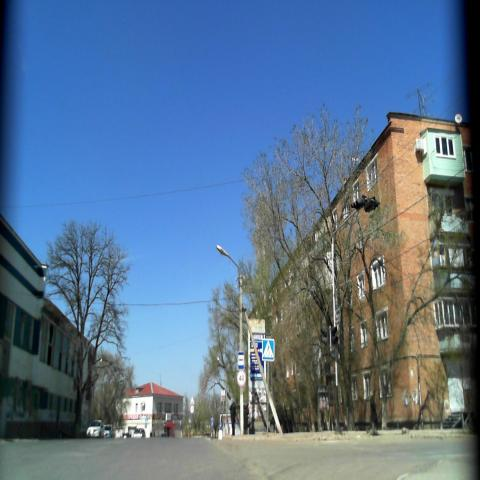3_24: (236, 370, 246, 386)
5_16: (238, 352, 244, 369)
5_19_1: (262, 340, 275, 363)
